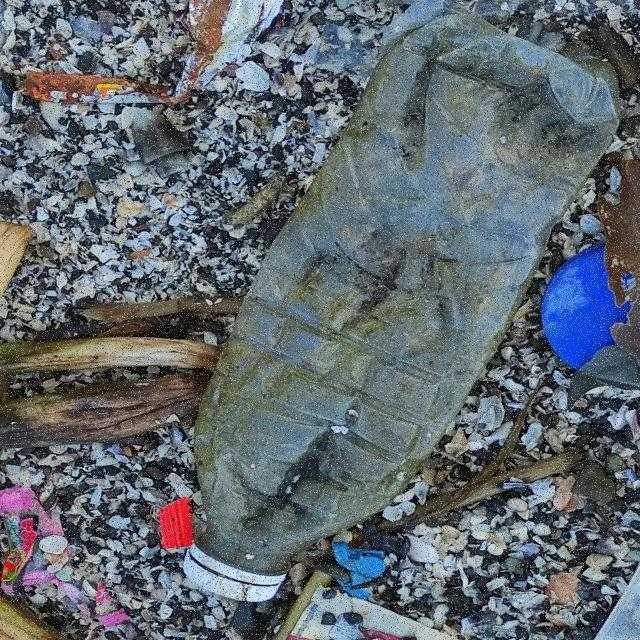plastic_waste: (180, 1, 626, 603), (5, 491, 129, 630)
